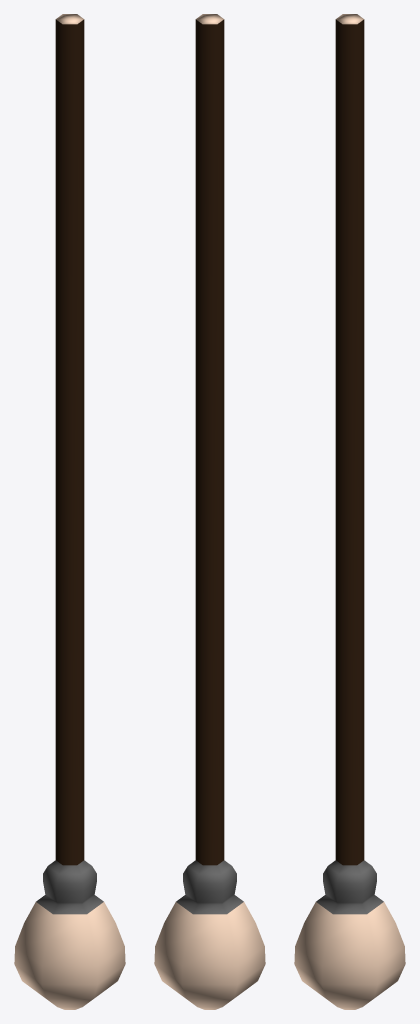
File: bombilla.fbx
The picture shows the model from 3 angles, left to right: view 1: azimuth 30°, elevation 25°; view 2: azimuth 150°, elevation 25°; view 3: azimuth 330°, elevation 25°; orthographic projection.
Visible parts, largest first — view 1: bombilla; view 2: bombilla; view 3: bombilla.
Boxes of the visible parts, x1,y1,x2,y2 form: bombilla: (14,14,125,1009); bombilla: (154,14,265,1009); bombilla: (294,14,405,1009).
Bounding box in the file's own units: 15.47 × 175 × 17.86.
